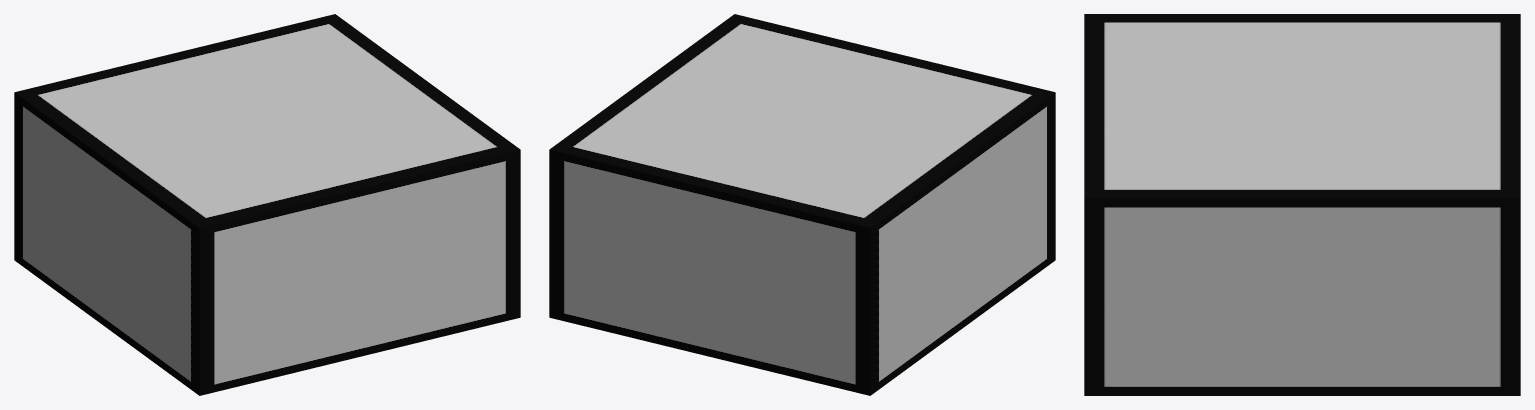
Rendered from Celda_base.fbx.
3 renders of one model, left to right at view 1: azimuth 30°, elevation 25°; view 2: azimuth 150°, elevation 25°; view 3: azimuth 270°, elevation 25°, orthographic. The views are drawn at different scales.
Parts seen in each view (by area): view 1: Cube; view 2: Cube; view 3: Cube.
Boxes of the visible parts, left/top/right/bottom form: Cube: left=14, top=14, right=520, bottom=395; Cube: left=549, top=14, right=1055, bottom=395; Cube: left=1084, top=14, right=1520, bottom=395.
Size of the model in its own units: 200 by 100 by 200.
Materials: 1 (1 with a texture image).
